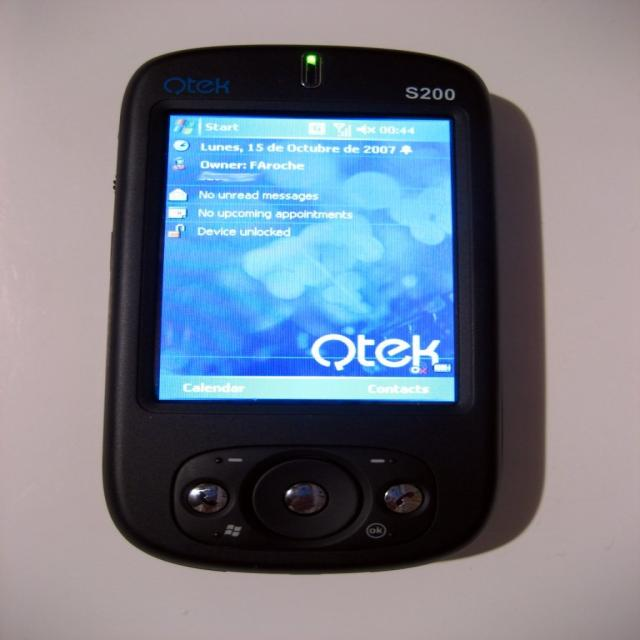Mobile-phone: (102, 50, 545, 566)
